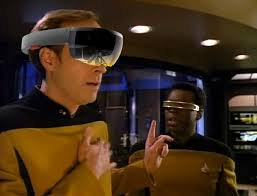hololens: (18, 24, 126, 66)
